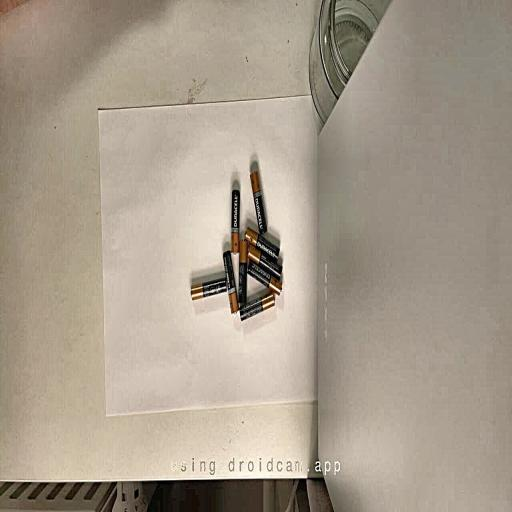DuracellAAA: (250, 166, 267, 234), (247, 262, 282, 295), (246, 228, 280, 261), (248, 246, 282, 278), (240, 293, 275, 321), (223, 250, 238, 313), (190, 277, 226, 300), (238, 240, 248, 304), (231, 190, 239, 253)
